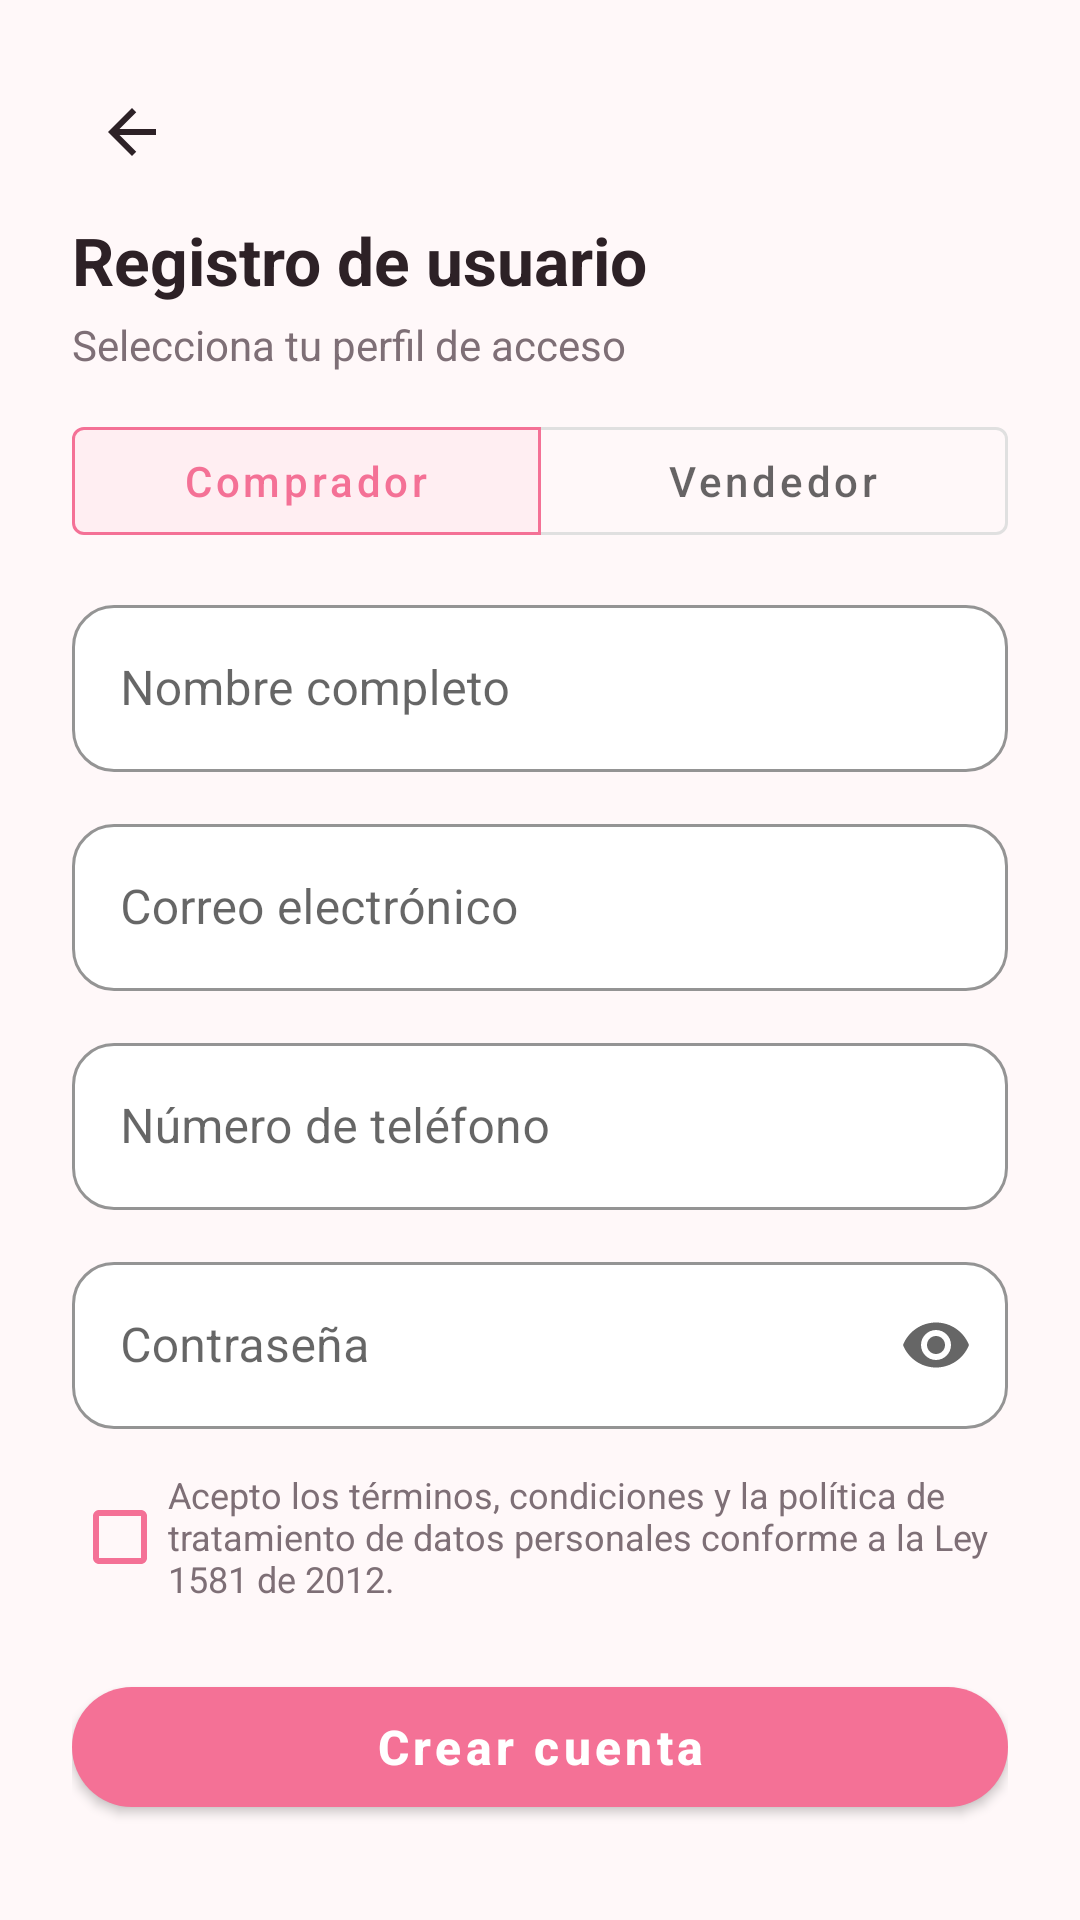

Icons on this 1080 x 1920 Android screen, each with the point to tap as (x,y):
Volver: (132,132)
